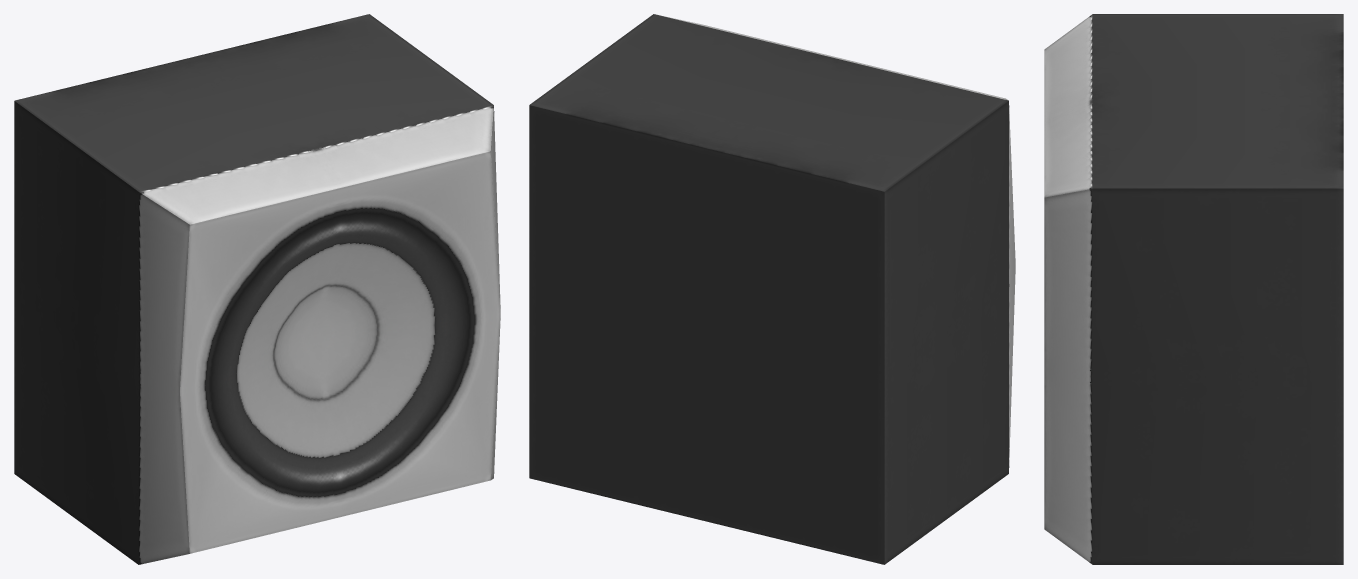
Rendered from SpeakerA.FBX.
The picture shows the model from 3 angles, left to right: view 1: azimuth 30°, elevation 25°; view 2: azimuth 150°, elevation 25°; view 3: azimuth 270°, elevation 25°; orthographic projection.
Visible parts, largest first — view 1: SpeakerA; view 2: SpeakerA; view 3: SpeakerA.
Boxes of the visible parts, x1,y1,x2,y2 form: SpeakerA: [14, 14, 500, 564]; SpeakerA: [529, 14, 1015, 564]; SpeakerA: [1044, 14, 1343, 564].
Size of the model in its own units: 16.73 by 12.11 by 16.8.
Materials: 1 (1 with a texture image).
